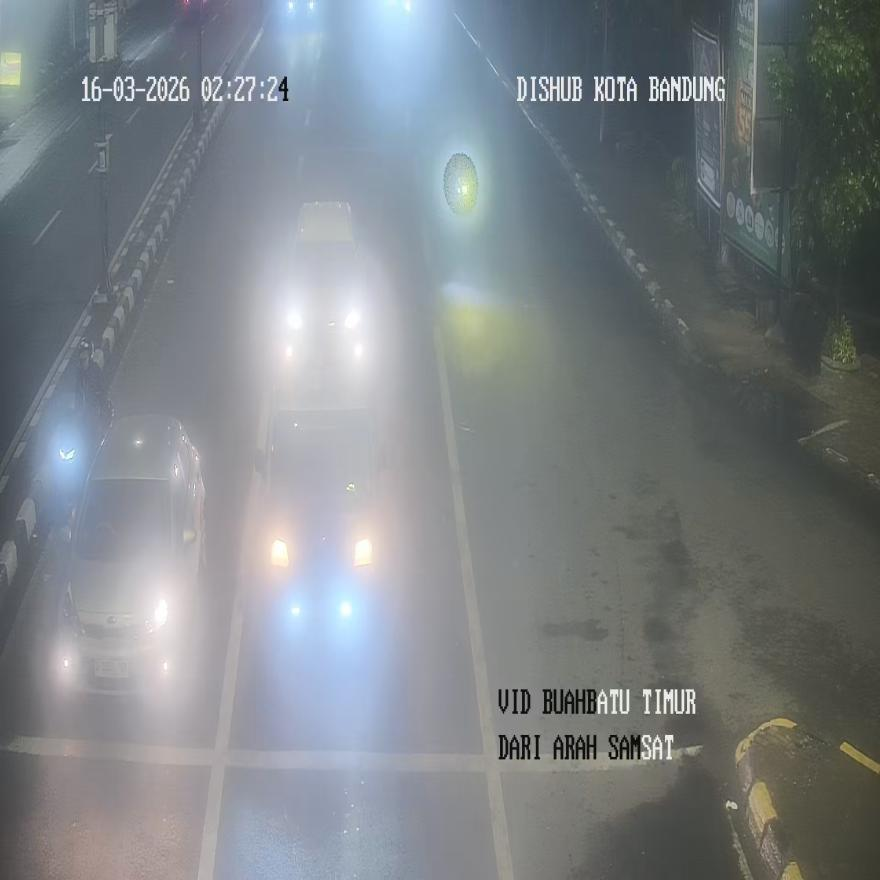Motor: (56, 415, 207, 700), (279, 200, 371, 383)
